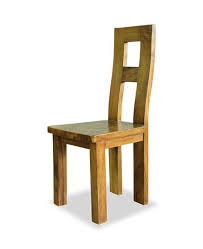tiyarina: (32, 14, 160, 225)
